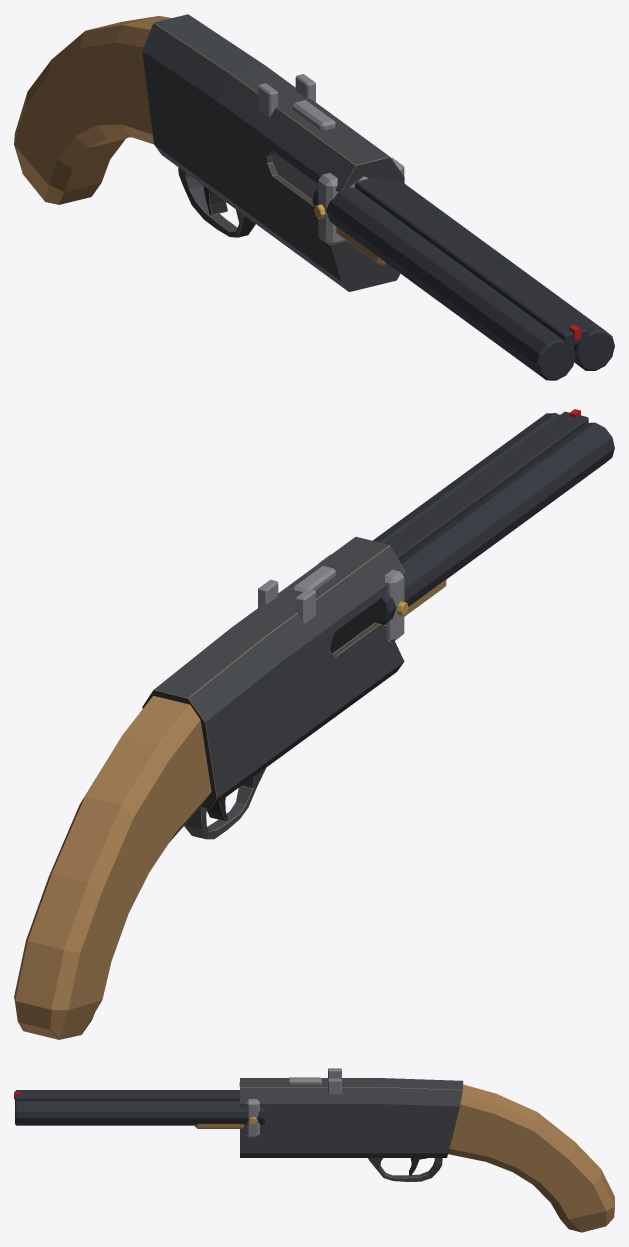
Rendered from sawed_off.glb.
3 views of the same model, one above another, from view 1: azimuth 30°, elevation 25°; view 2: azimuth 150°, elevation 25°; view 3: azimuth 270°, elevation 25° (orthographic). The views are drawn at different scales.
Visible parts, largest first — view 1: sawed_off; view 2: sawed_off; view 3: sawed_off.
Boxes of the visible parts, x1,y1,x2,y2 form: sawed_off: (14,14,614,380); sawed_off: (14,409,614,1039); sawed_off: (14,1068,614,1232).
Size of the model in its own units: 0.0468 by 0.1414 by 0.502.
